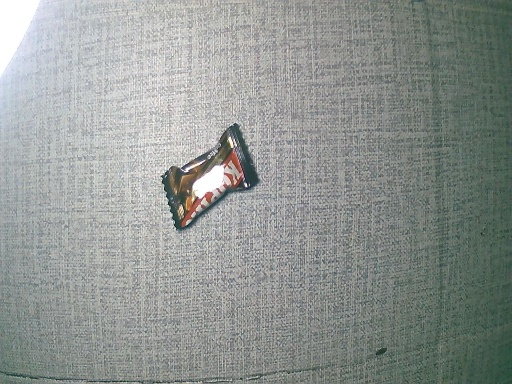plastic: (166, 124, 264, 250)
